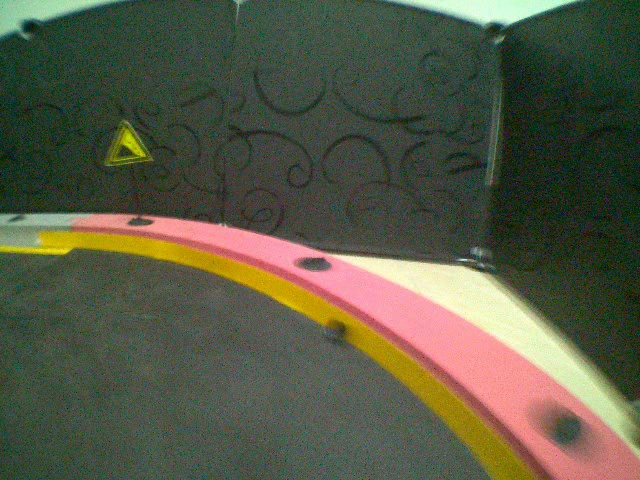fast: (101, 119, 155, 168)
